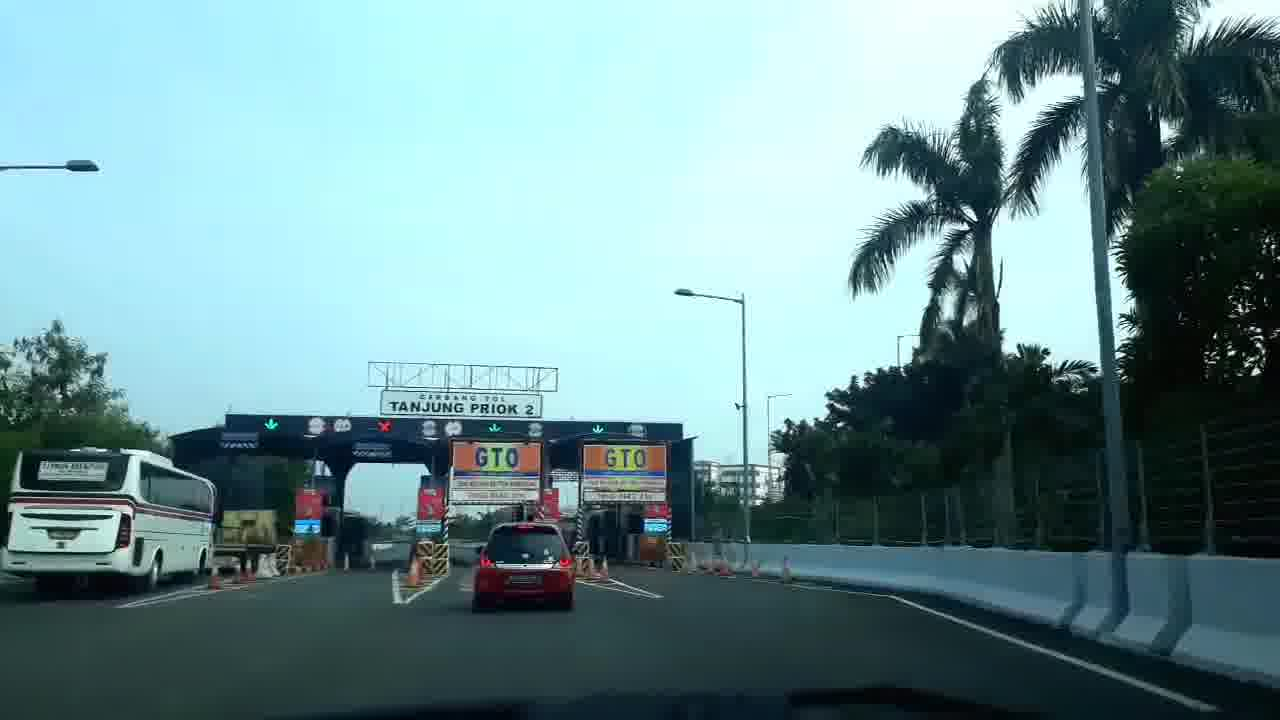plate_positive: (505, 574, 544, 586)
